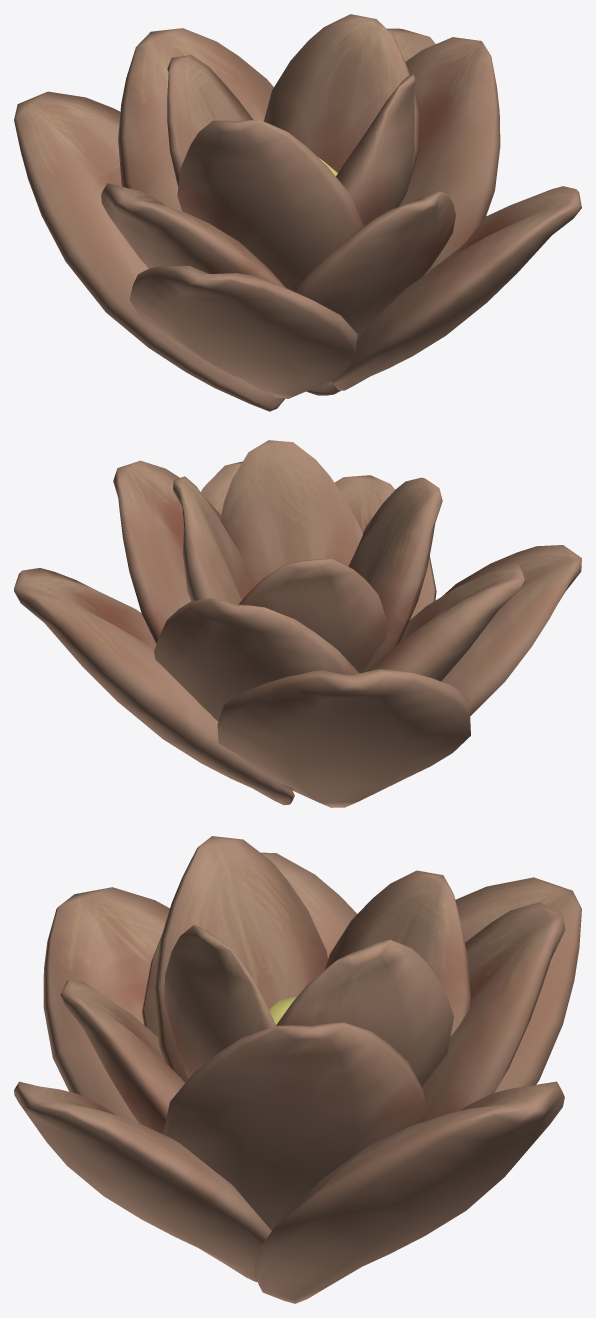
The model's file is flower orange.fbx.
3 renders of one model, top to bottom at view 1: azimuth 30°, elevation 25°; view 2: azimuth 150°, elevation 25°; view 3: azimuth 270°, elevation 25°, orthographic. The views are drawn at different scales.
Visible parts, largest first — view 1: Sphere.013; view 2: Sphere.013; view 3: Sphere.013.
Part boxes in pixels (x1,y1,x2,y2): Sphere.013: [14, 14, 581, 411]; Sphere.013: [14, 440, 581, 807]; Sphere.013: [14, 836, 581, 1303].
Size of the model in its own units: 29.34 by 22.23 by 28.53.
